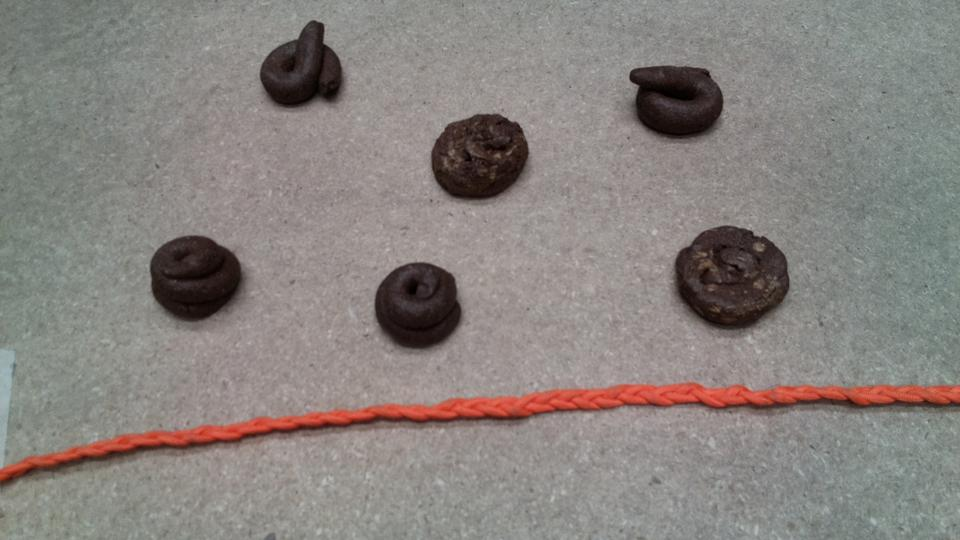poop: (671, 222, 799, 335), (425, 104, 534, 206), (369, 256, 471, 357), (251, 17, 351, 111), (149, 235, 246, 319), (629, 61, 723, 139)
rope: (151, 404, 411, 475), (645, 369, 960, 427), (396, 383, 700, 435), (2, 428, 163, 502)
